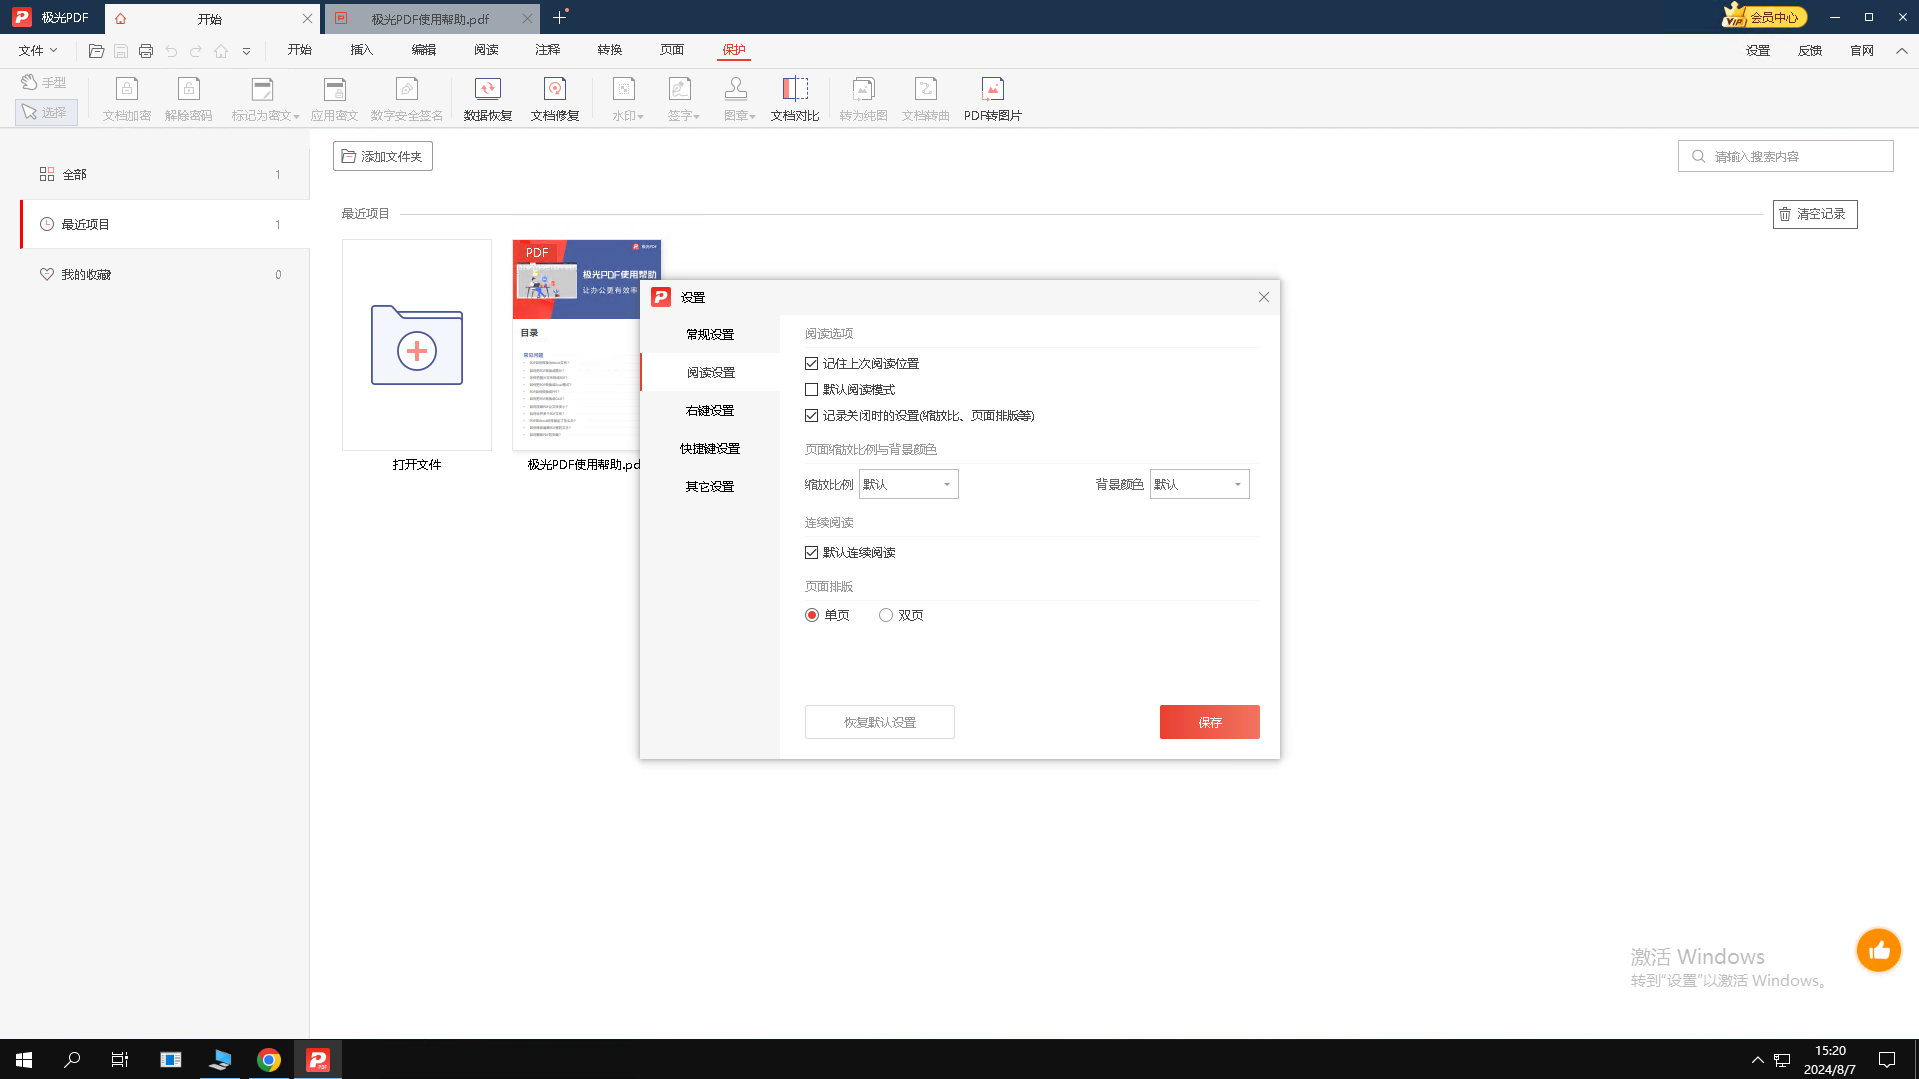Clickable: (1159, 701, 1263, 739), (859, 464, 959, 501), (1149, 466, 1255, 501)
Disabled: (809, 700, 959, 742)
Root: (779, 316, 1281, 758)
Selectable: (786, 404, 1040, 433), (793, 346, 938, 379), (795, 381, 942, 403), (874, 599, 896, 636), (796, 539, 830, 563), (803, 599, 824, 631)
level_0: (784, 574, 1282, 758), (778, 314, 1281, 432), (778, 433, 1277, 510), (779, 511, 1281, 573)
